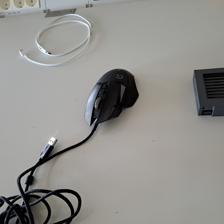mouse: (83, 66, 139, 127)
